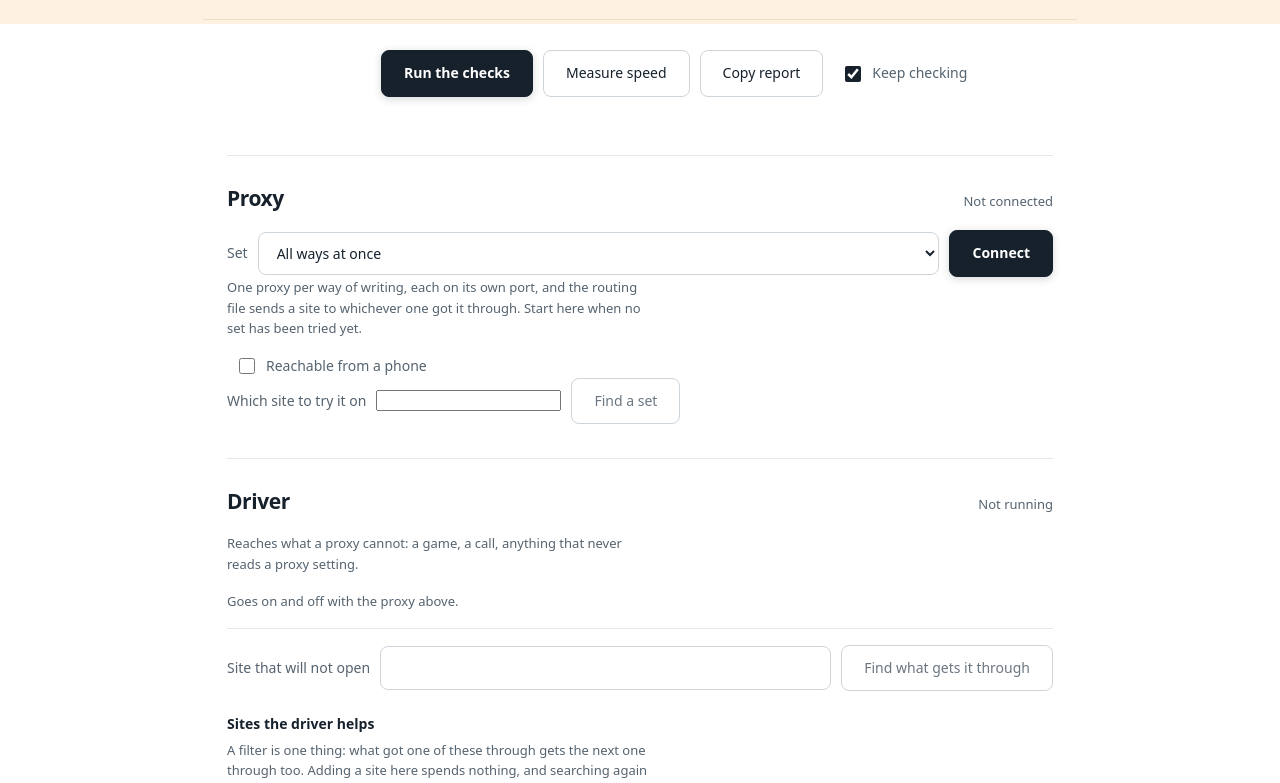
the page › finds a set and turns it on from one press
(page scrolled)
Step 1. Type "blocked.example" into the field labelled "Which site to try it on" → [469, 401], box [376, 390, 561, 411]
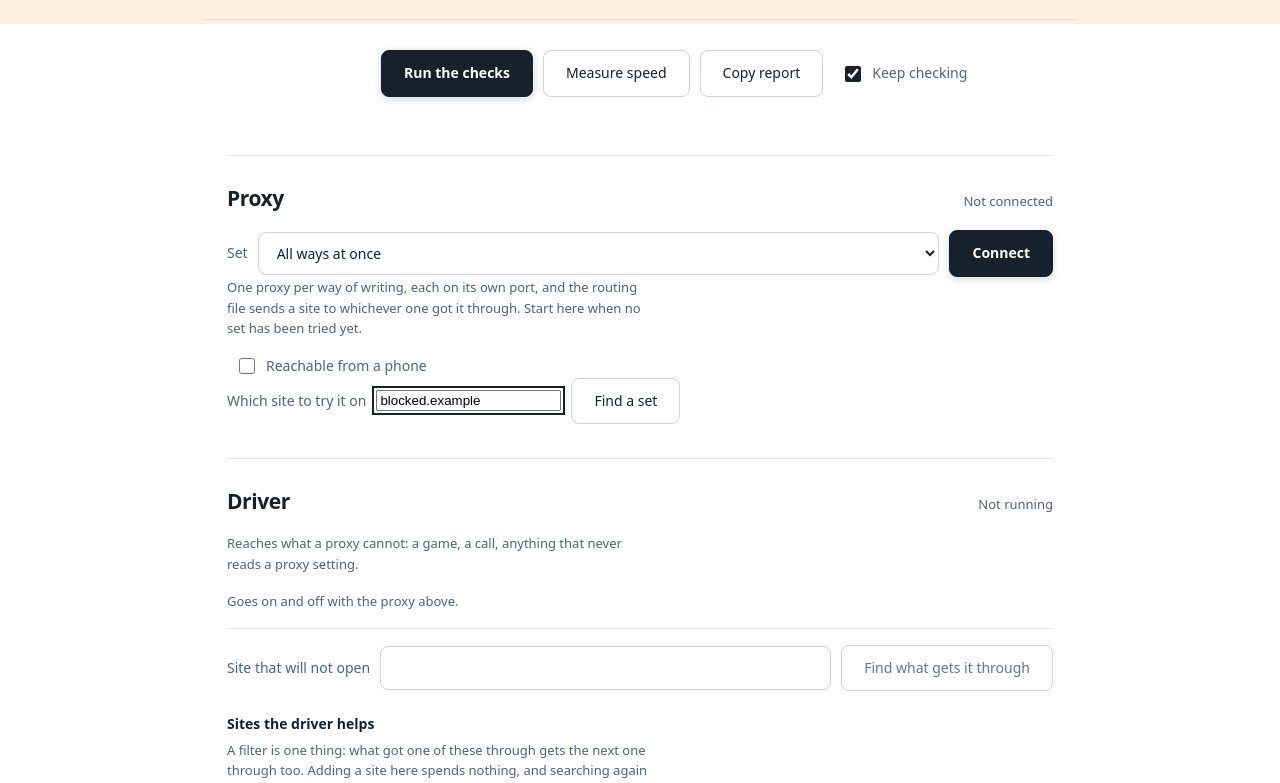
Step 2. Click the button "Find a set" → [626, 401], box [571, 378, 680, 424]
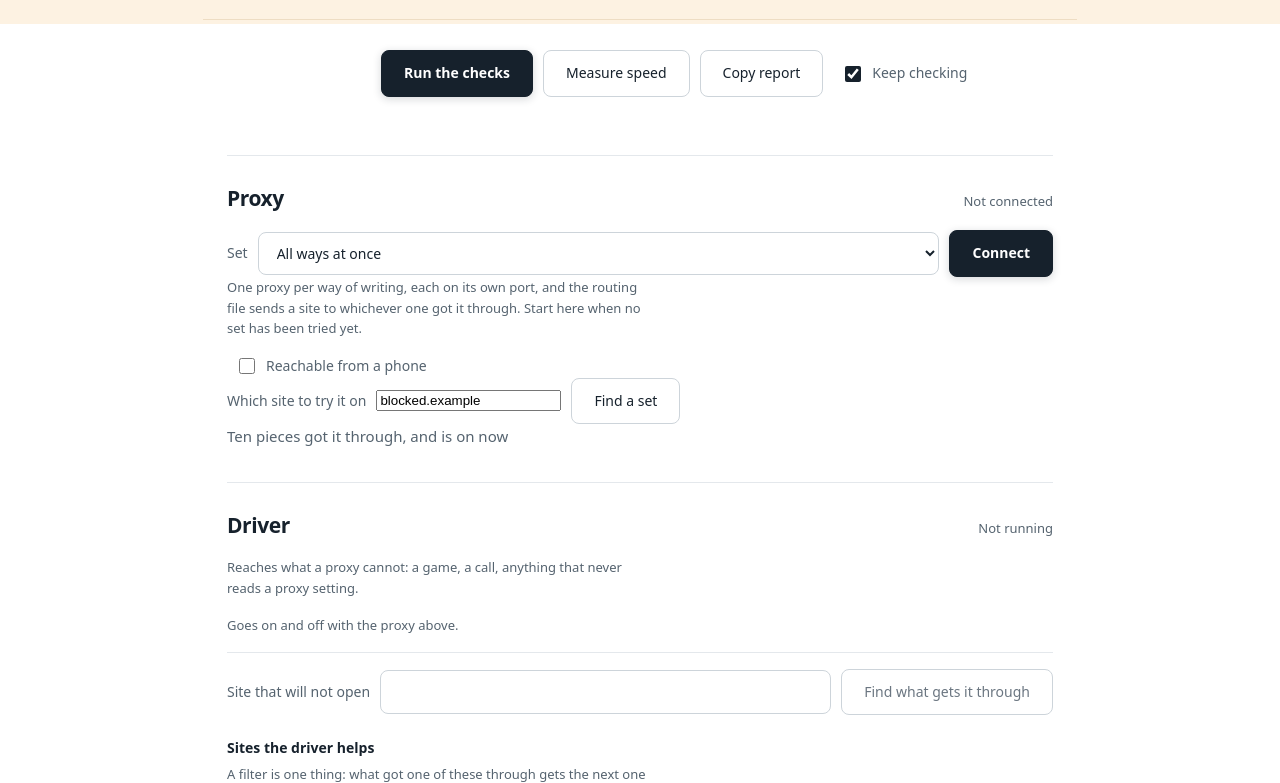
expect the text "Ten pieces got it through, and is on now" is shown: met, box [227, 426, 508, 446]
